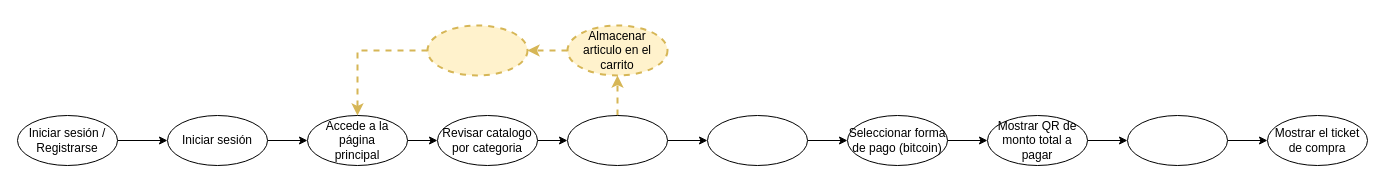
This 1385x191 diagram has some shape labels left out. The box of each missing label's shape, as (x1, y1, x2, y2) in pixels:
Accede a la descripción del articulo: (566, 114, 668, 166)
Elegir forma de envio: (706, 114, 808, 166)
Realizar pago con bitcoin: (1126, 114, 1228, 166)
Ver carrito de compras: (426, 24, 528, 76)
